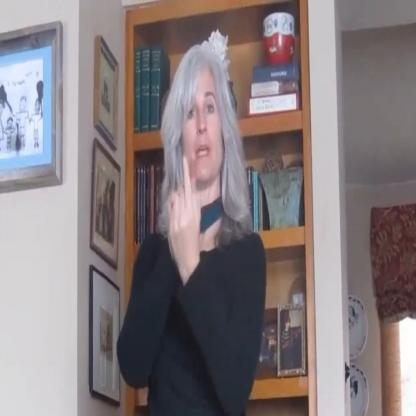NiceToMeetYou: (152, 146, 209, 279)
